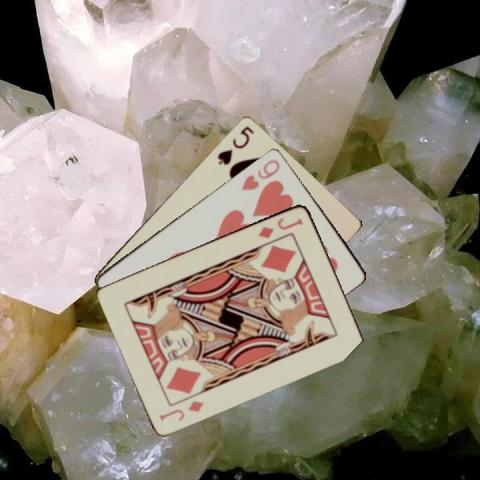5s: (215, 123, 255, 166)
9h: (239, 155, 281, 192)
Jd: (156, 397, 205, 422), (254, 215, 304, 239)
